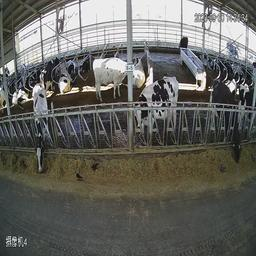cow: (123, 74, 180, 142), (210, 77, 246, 169), (29, 84, 58, 179), (88, 54, 130, 102), (128, 47, 153, 87), (239, 80, 255, 127), (59, 61, 77, 100), (17, 79, 31, 108), (208, 52, 221, 74)
